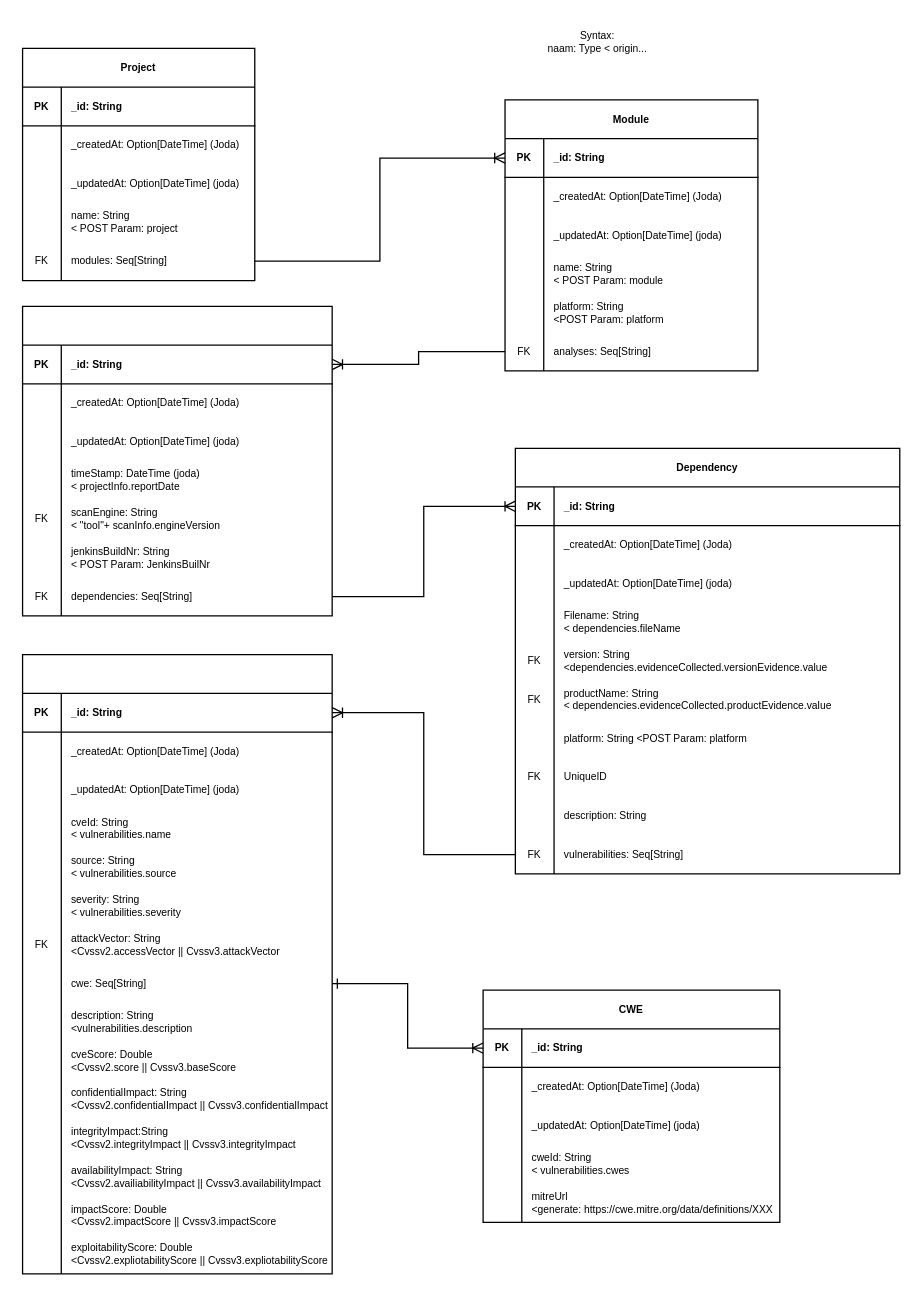
The diagram is 922 pixels wide and 1296 high, and some of its shapes have lost their labels. Here are the shapes that lost their labels. From the top down, the box of each, then its label:
(21, 305, 332, 616): Analysis
(21, 653, 332, 1274): Vulnerability
